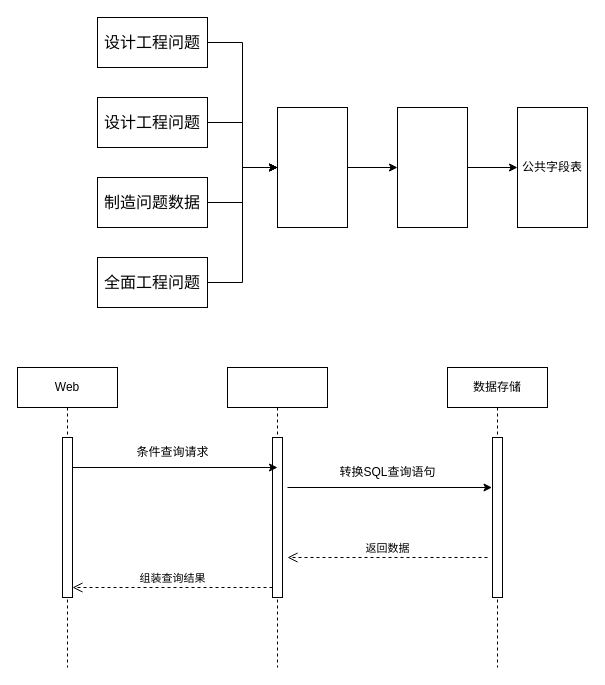
Some shapes in this 605 by 685 pixel diagram are drawn without their labels. Each missing label, with the box of its shape:
公共字段映射: (396, 106, 468, 228)
公共数据模块: (226, 366, 328, 668)
数据归集: (276, 106, 348, 228)
